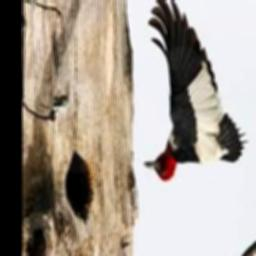Woodpecker: (144, 0, 248, 181)
